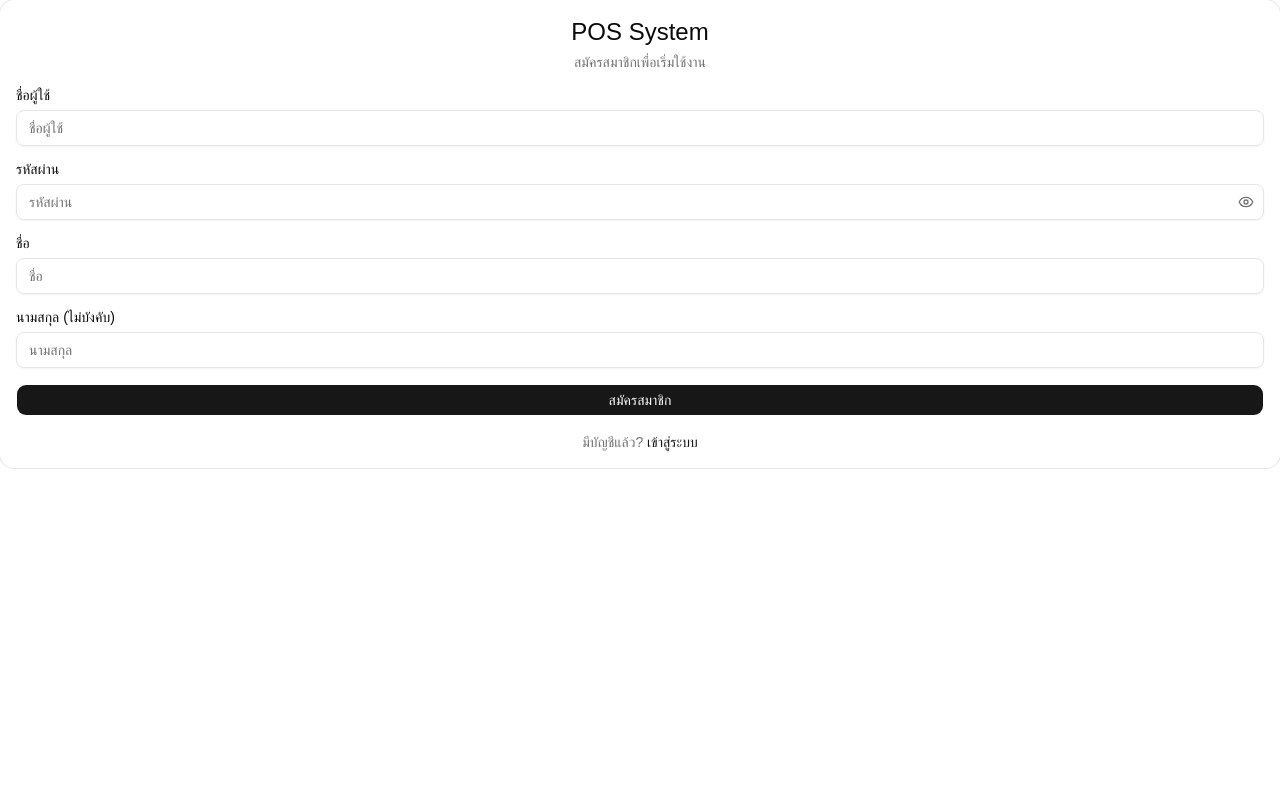
Test: RegisterPage › shows validation errors for empty submit
What coordinates should you click on to do the following:
click the button "สมัครสมาชิก"
I would click on:
 (640, 400)
Its box is [16,384,1264,416].
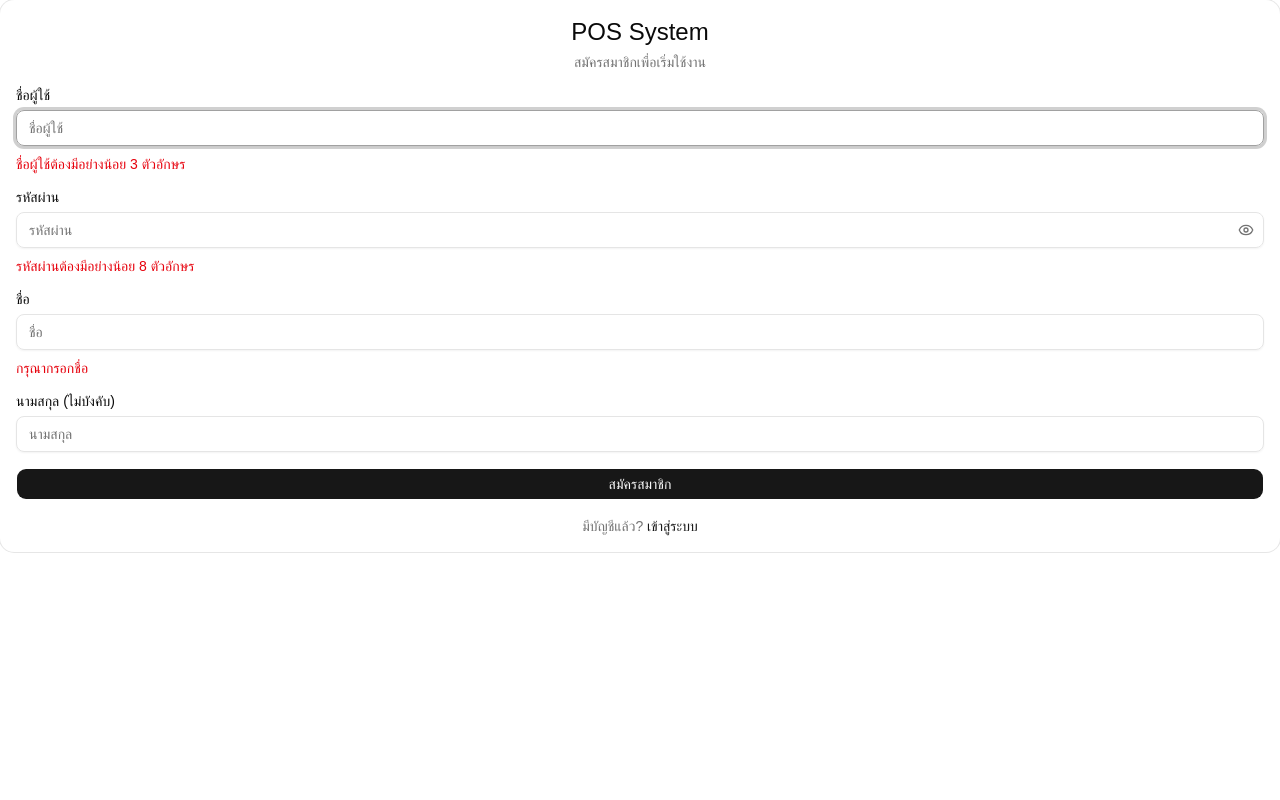
Check: the text "ชื่อผู้ใช้ต้องมีอย่างน้อย 3 ตัวอักษร" is shown, box [16,156,186,172]
Check: the text "รหัสผ่านต้องมีอย่างน้อย 8 ตัวอักษร" is shown, box [16,258,194,274]
Check: the text "กรุณากรอกชื่อ" is shown, box [16,360,88,376]
